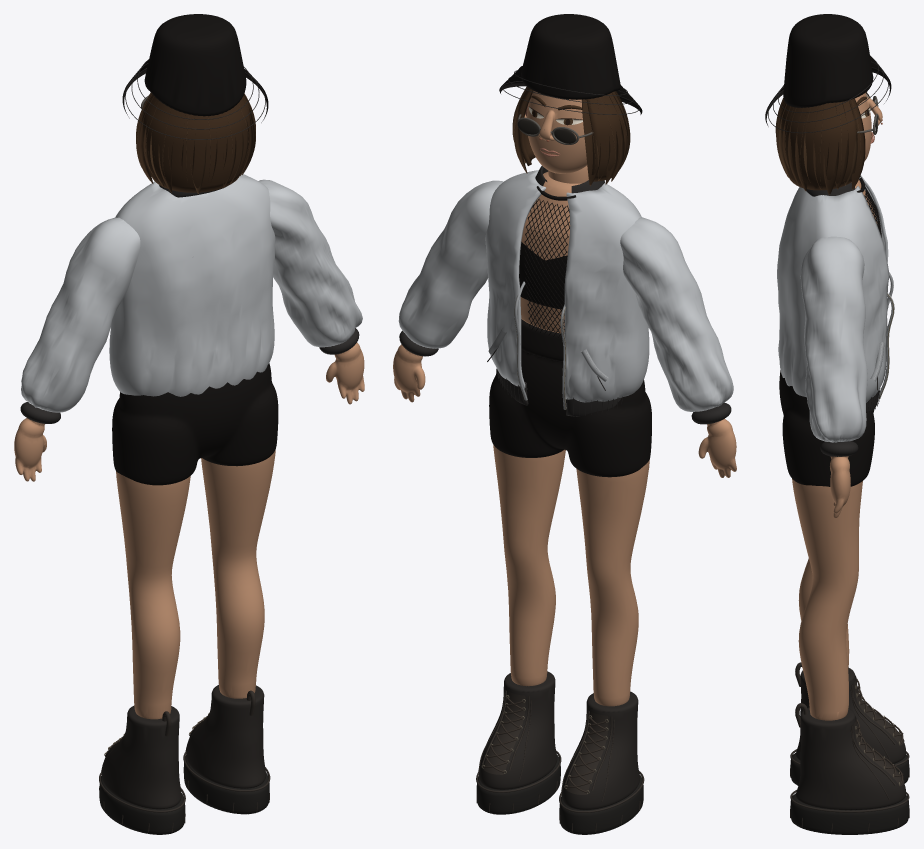
Rendered from tine-3d.glb.
3 renders of one model, left to right at view 1: azimuth 30°, elevation 25°; view 2: azimuth 150°, elevation 25°; view 3: azimuth 270°, elevation 25°, orthographic.
Visible parts, largest first — view 1: figure; view 2: figure; view 3: figure.
Boxes of the visible parts, box(x1,y1,x2,y2) form: figure: box(14, 14, 364, 834); figure: box(393, 14, 736, 834); figure: box(765, 14, 909, 834).
Bounding box in the file's own units: 0.7918 × 1.71 × 0.2885.
